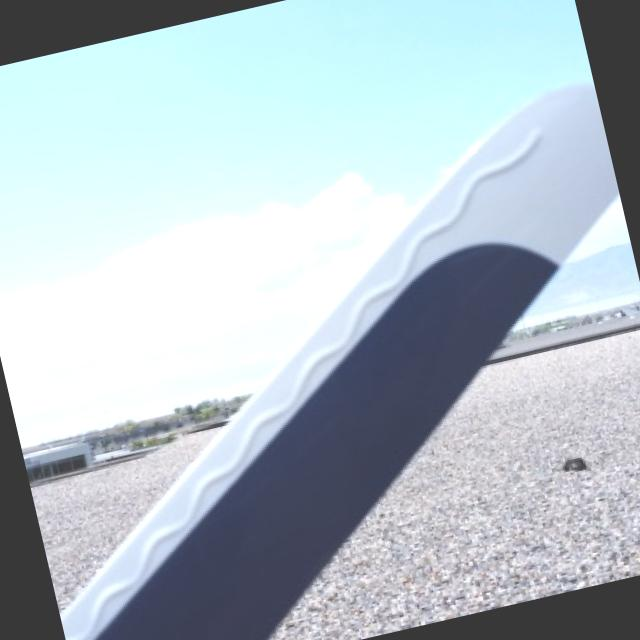healthy: (60, 84, 616, 640)
